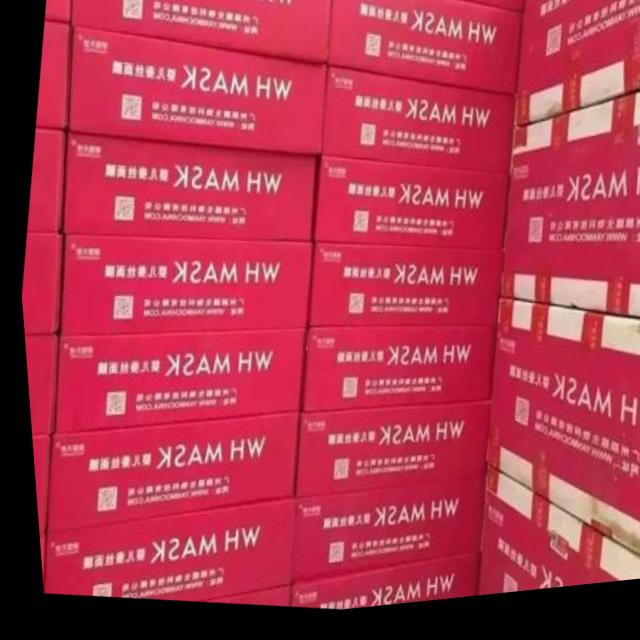box: (478, 310, 640, 572), (65, 27, 324, 162), (494, 105, 640, 332), (58, 132, 316, 249), (39, 419, 292, 531), (53, 234, 308, 337), (48, 334, 301, 435), (34, 504, 286, 604), (466, 471, 633, 605), (317, 74, 513, 186), (282, 479, 475, 590), (327, 0, 521, 103), (310, 163, 506, 259), (288, 412, 486, 503), (72, 0, 329, 67), (303, 251, 499, 336), (296, 333, 491, 418), (280, 563, 469, 615), (18, 231, 60, 336), (25, 127, 64, 235), (35, 20, 71, 133), (20, 336, 53, 436), (25, 435, 42, 587), (423, 0, 524, 22), (199, 589, 282, 610), (46, 0, 71, 25)
